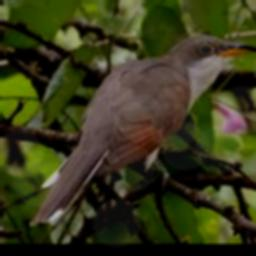Cuckoo: (29, 34, 256, 225)
